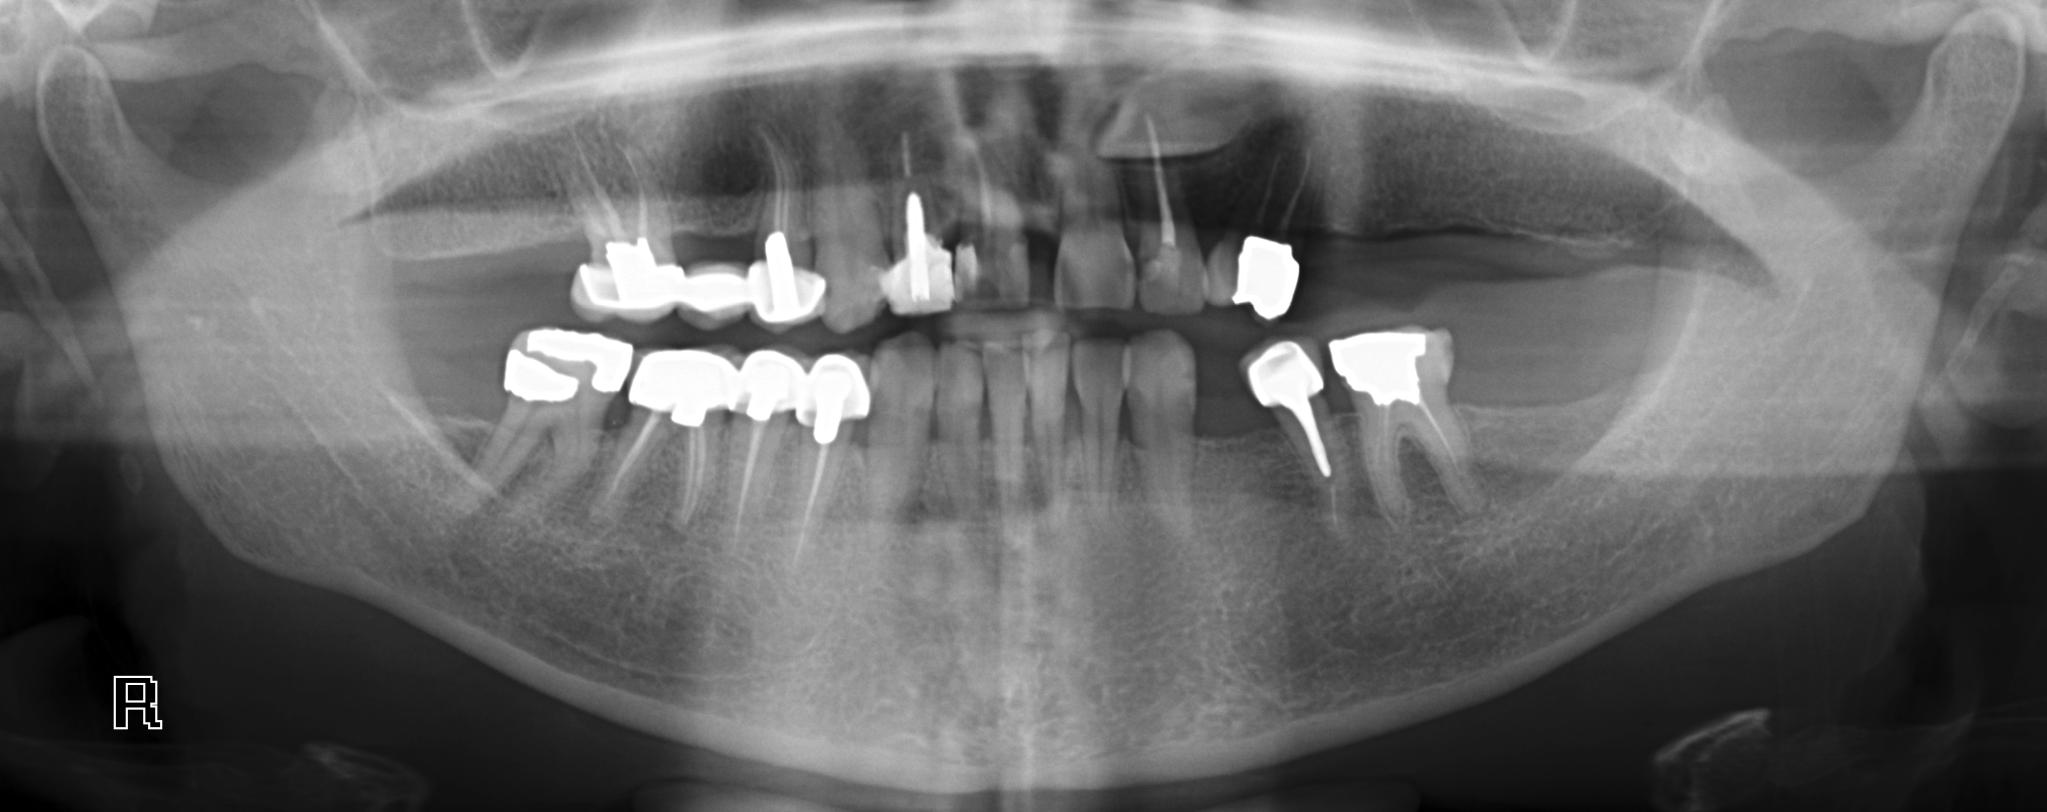Fillings: (1334, 324, 1478, 529), (486, 325, 633, 516), (1210, 150, 1303, 322)
Implant: (559, 129, 696, 322), (614, 333, 735, 542), (1240, 336, 1355, 546), (785, 346, 875, 557), (740, 140, 825, 326), (881, 150, 956, 320), (1124, 158, 1204, 312)
